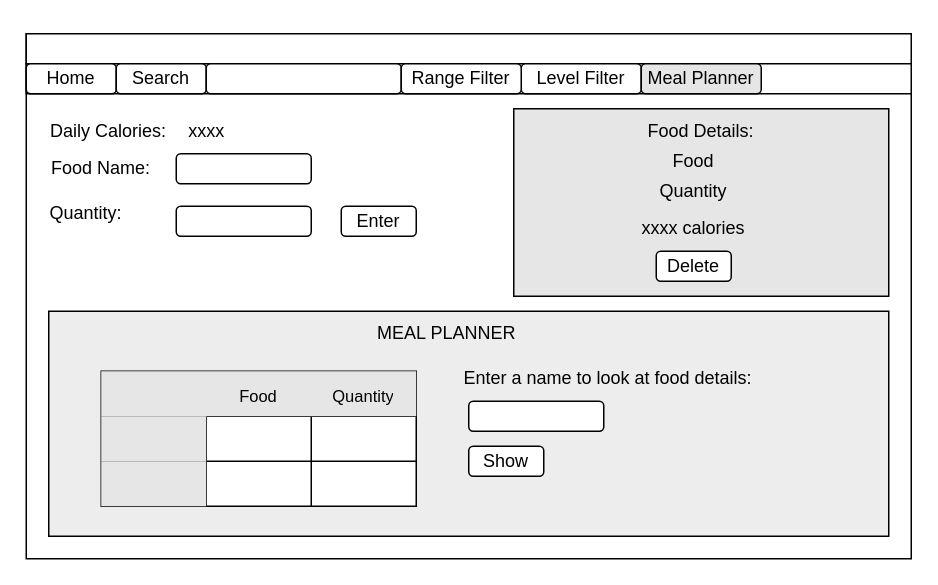
This 938x585 diagram has some shape labels left out. The centre of each missing label's shape, as x and y in pixels:
"Nutrition Database" goes at (x=468, y=48).
"Nutritional Breakdown" goes at (x=303, y=78).
